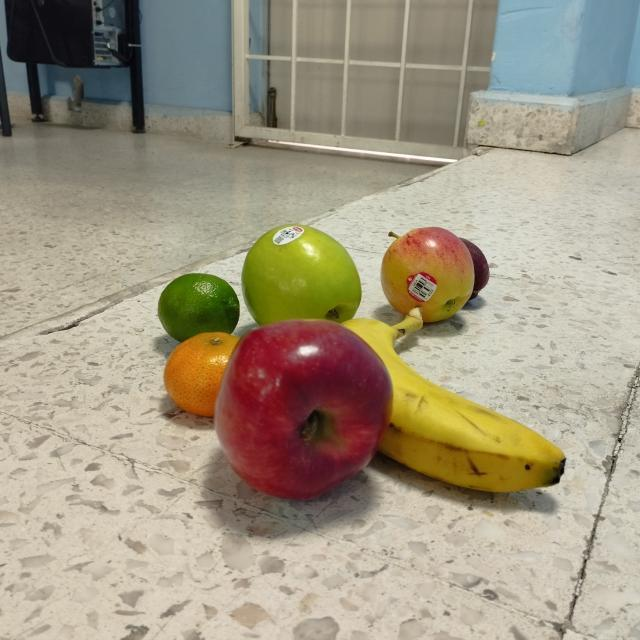Apel Gala: (378, 214, 475, 326)
Apel Granny Smith: (230, 212, 372, 332)
Apel Merah: (208, 314, 398, 506)
Jeruk Mandarin: (152, 321, 264, 427)
Lemon: (146, 269, 244, 349)
Persik: (424, 230, 506, 304)
Pisang: (314, 292, 568, 516)
